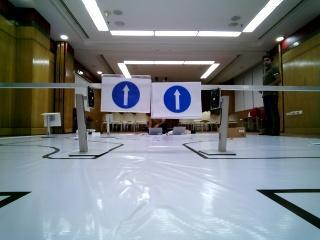straight: (153, 83, 201, 118), (102, 74, 148, 110)
